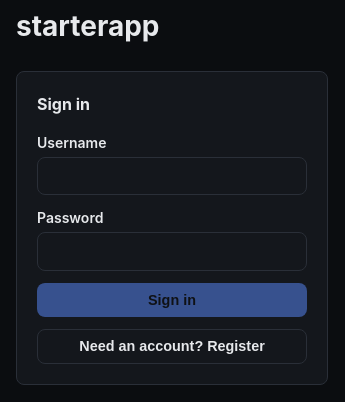
Test: AuthForm › switches to register mode
Click the button "Need an account? Register".
click(172, 346)  # box left=37, top=328, right=307, bottom=364
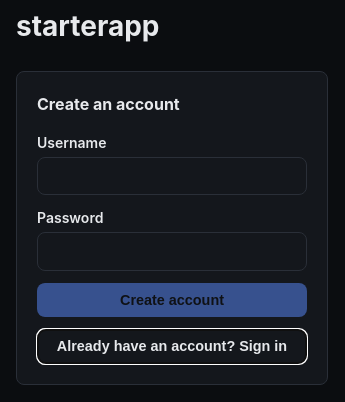
expect the heading "Create an account" is shown: met, box left=37, top=94, right=180, bottom=114
